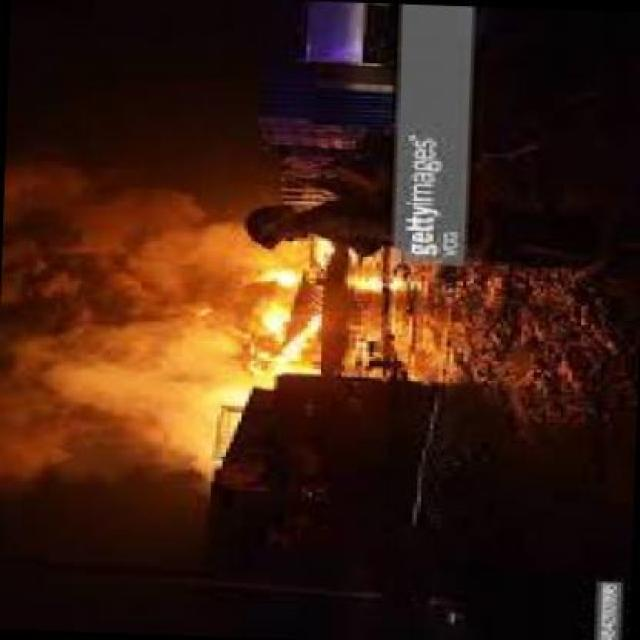Fire: (232, 227, 346, 381)
Smoke: (3, 132, 224, 500)
